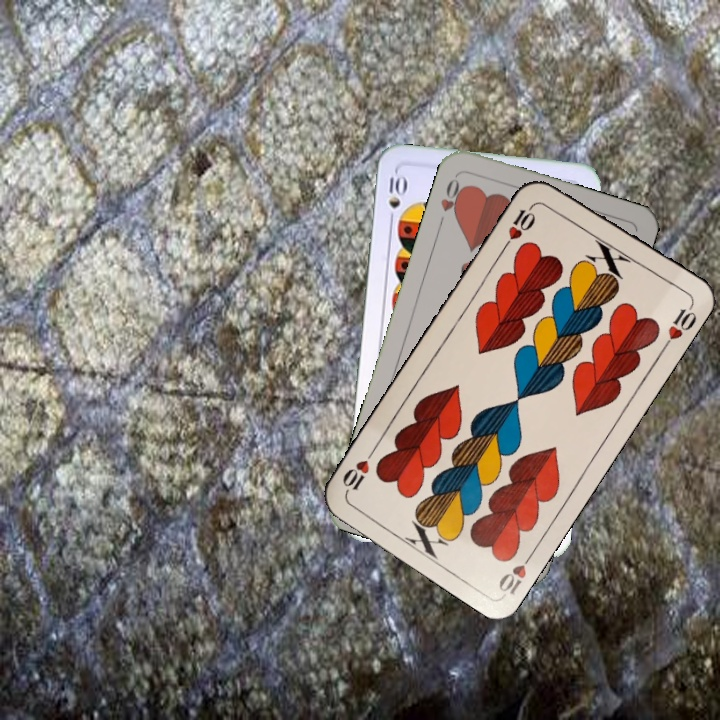H10: (494, 545, 538, 599), (499, 199, 539, 251)
HO: (434, 172, 468, 229)
S10: (385, 171, 407, 227)
